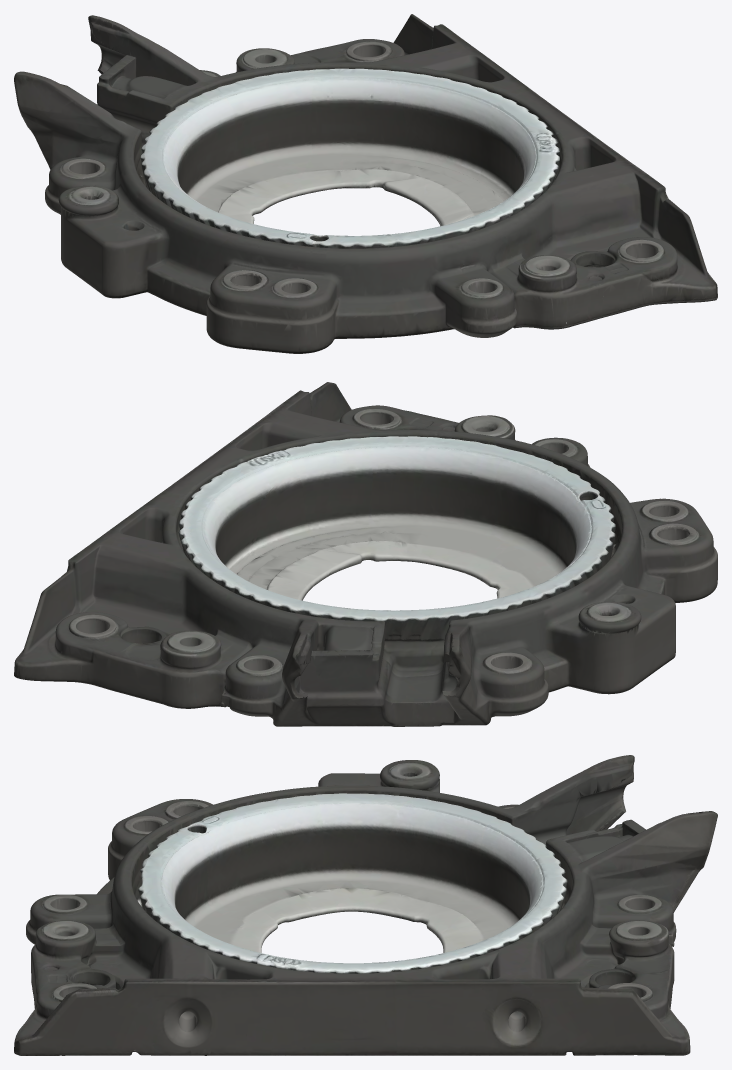
The model's file is sabo-05801-otimizado-anterior-3mb.glb.
3 views of the same model, one above another, from view 1: azimuth 30°, elevation 25°; view 2: azimuth 150°, elevation 25°; view 3: azimuth 270°, elevation 25° (orthographic). The views are drawn at different scales.
Parts seen in each view (by area): view 1: tripo_node_cb3533c2-bc37-406d-97b6-468890efb2a7; view 2: tripo_node_cb3533c2-bc37-406d-97b6-468890efb2a7; view 3: tripo_node_cb3533c2-bc37-406d-97b6-468890efb2a7.
Boxes of the visible parts, x1,y1,x2,y2 form: tripo_node_cb3533c2-bc37-406d-97b6-468890efb2a7: (14, 14, 717, 353); tripo_node_cb3533c2-bc37-406d-97b6-468890efb2a7: (14, 382, 717, 726); tripo_node_cb3533c2-bc37-406d-97b6-468890efb2a7: (14, 755, 717, 1055).
Bounding box in the file's own units: 0.7591 × 0.1598 × 0.9821.
1 material, 1 textured.
